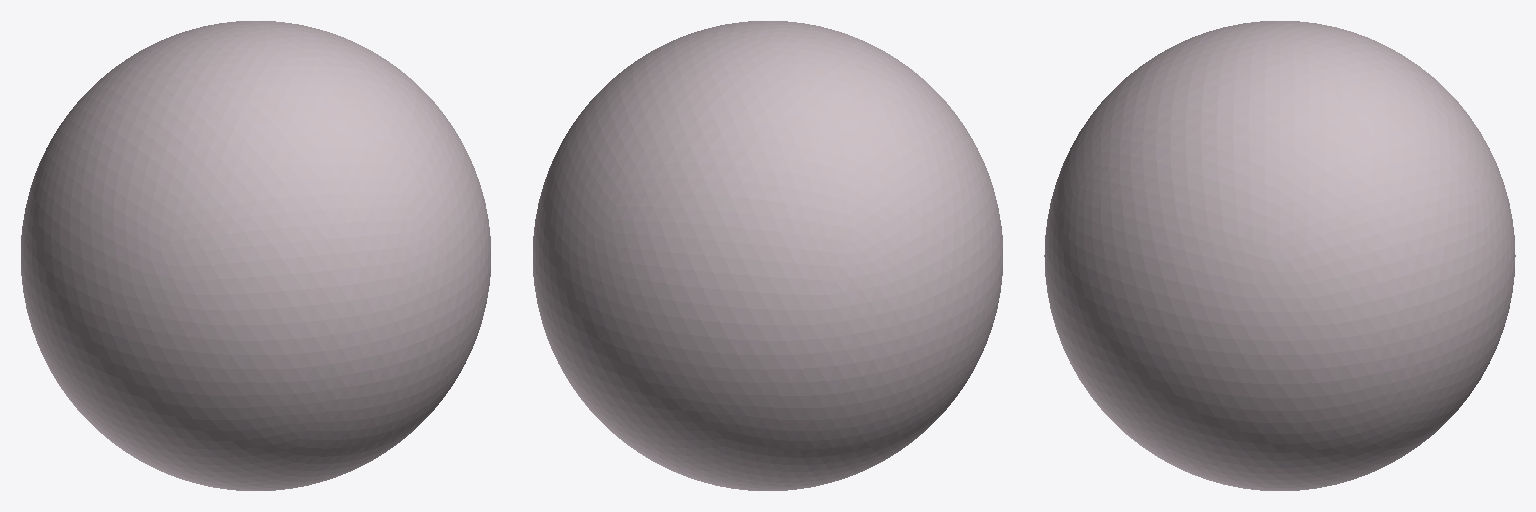
File: clouds.obj
3 renders of one model, left to right at view 1: azimuth 30°, elevation 25°; view 2: azimuth 150°, elevation 25°; view 3: azimuth 270°, elevation 25°, orthographic.
Parts seen in each view (by area): view 1: Icosphere.042, Icosphere.040, Icosphere.025, Icosphere.029, Icosphere.039, Icosphere.038, Icosphere.043, Icosphere.041, Icosphere.027, Icosphere.036, Icosphere.037, Icosphere.044 (+2 smaller); view 2: Icosphere.032, Icosphere.029, Icosphere.031, Icosphere.028, Icosphere.030, Icosphere.033, Icosphere.027, Icosphere.037, Icosphere.038, Icosphere.025, Icosphere.036, Icosphere.040 (+1 smaller); view 3: Icosphere.033, Icosphere.036, Icosphere.034, Icosphere.035, Icosphere.043, Icosphere.032, Icosphere.044, Icosphere.038, Icosphere.037, Icosphere.039, Icosphere.026, Icosphere.028 (+1 smaller).
Boxes of the visible parts, x1=… form: Icosphere.042: x1=188, y1=220, x2=430, y2=384; Icosphere.040: x1=107, y1=150, x2=297, y2=324; Icosphere.025: x1=33, y1=256, x2=212, y2=441; Icosphere.029: x1=22, y1=59, x2=177, y2=343; Icosphere.039: x1=194, y1=107, x2=437, y2=226; Icosphere.038: x1=156, y1=40, x2=417, y2=158; Icosphere.043: x1=362, y1=162, x2=490, y2=440; Icosphere.041: x1=158, y1=351, x2=376, y2=457; Icosphere.027: x1=33, y1=332, x2=415, y2=490; Icosphere.036: x1=303, y1=25, x2=475, y2=203; Icosphere.037: x1=143, y1=21, x2=361, y2=69; Icosphere.044: x1=414, y1=247, x2=490, y2=429; Icosphere.032: x1=577, y1=84, x2=824, y2=334; Icosphere.029: x1=801, y1=84, x2=990, y2=393; Icosphere.031: x1=683, y1=257, x2=911, y2=456; Icosphere.028: x1=554, y1=305, x2=802, y2=476; Icosphere.030: x1=742, y1=177, x2=926, y2=338; Icosphere.033: x1=533, y1=107, x2=633, y2=396; Icosphere.027: x1=657, y1=370, x2=962, y2=490; Icosphere.037: x1=662, y1=23, x2=831, y2=117; Icosphere.038: x1=735, y1=21, x2=927, y2=101; Icosphere.025: x1=942, y1=208, x2=1002, y2=404; Icosphere.036: x1=556, y1=25, x2=720, y2=153; Icosphere.040: x1=909, y1=68, x2=998, y2=215; Icosphere.033: x1=1316, y1=128, x2=1499, y2=461; Icosphere.036: x1=1123, y1=94, x2=1414, y2=259; Icosphere.034: x1=1187, y1=287, x2=1376, y2=467; Icosphere.035: x1=1153, y1=221, x2=1368, y2=388; Icosphere.043: x1=1047, y1=180, x2=1165, y2=412; Icosphere.032: x1=1358, y1=35, x2=1514, y2=275; Icosphere.044: x1=1089, y1=314, x2=1205, y2=454; Icosphere.038: x1=1131, y1=21, x2=1312, y2=158; Icosphere.037: x1=1218, y1=22, x2=1372, y2=105; Icosphere.039: x1=1076, y1=35, x2=1198, y2=193; Icosphere.026: x1=1135, y1=439, x2=1413, y2=490; Icosphere.028: x1=1402, y1=248, x2=1515, y2=453.
Bounding box in the file's own units: 21.66 × 21.66 × 21.66.